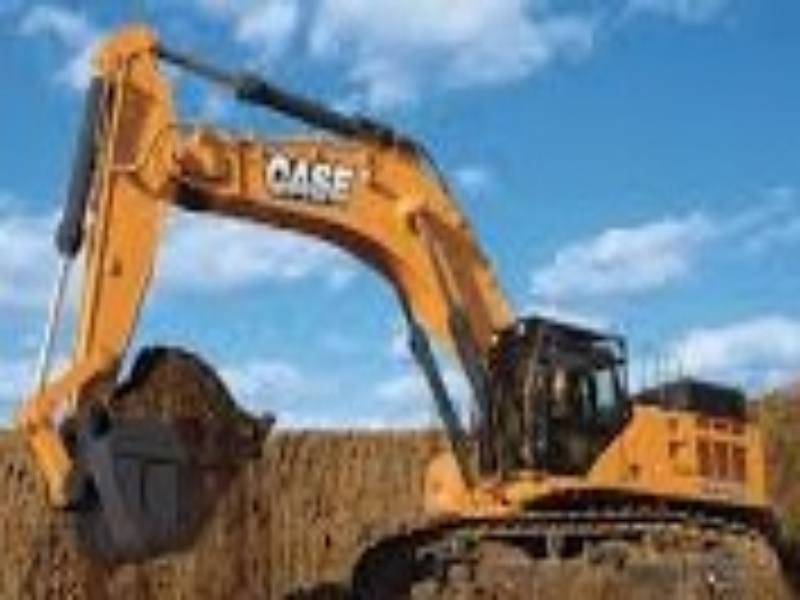wajueji: (348, 278, 791, 600)
